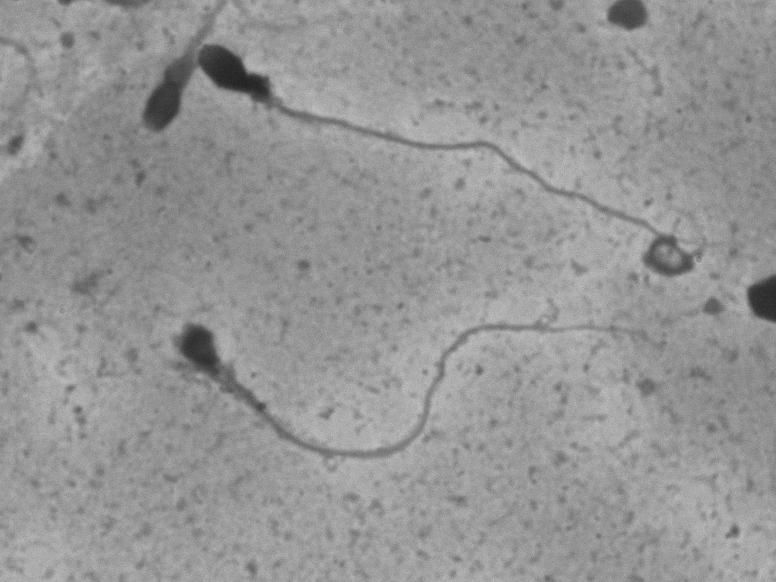Abnormal: (117, 284, 627, 526), (198, 32, 653, 187)
